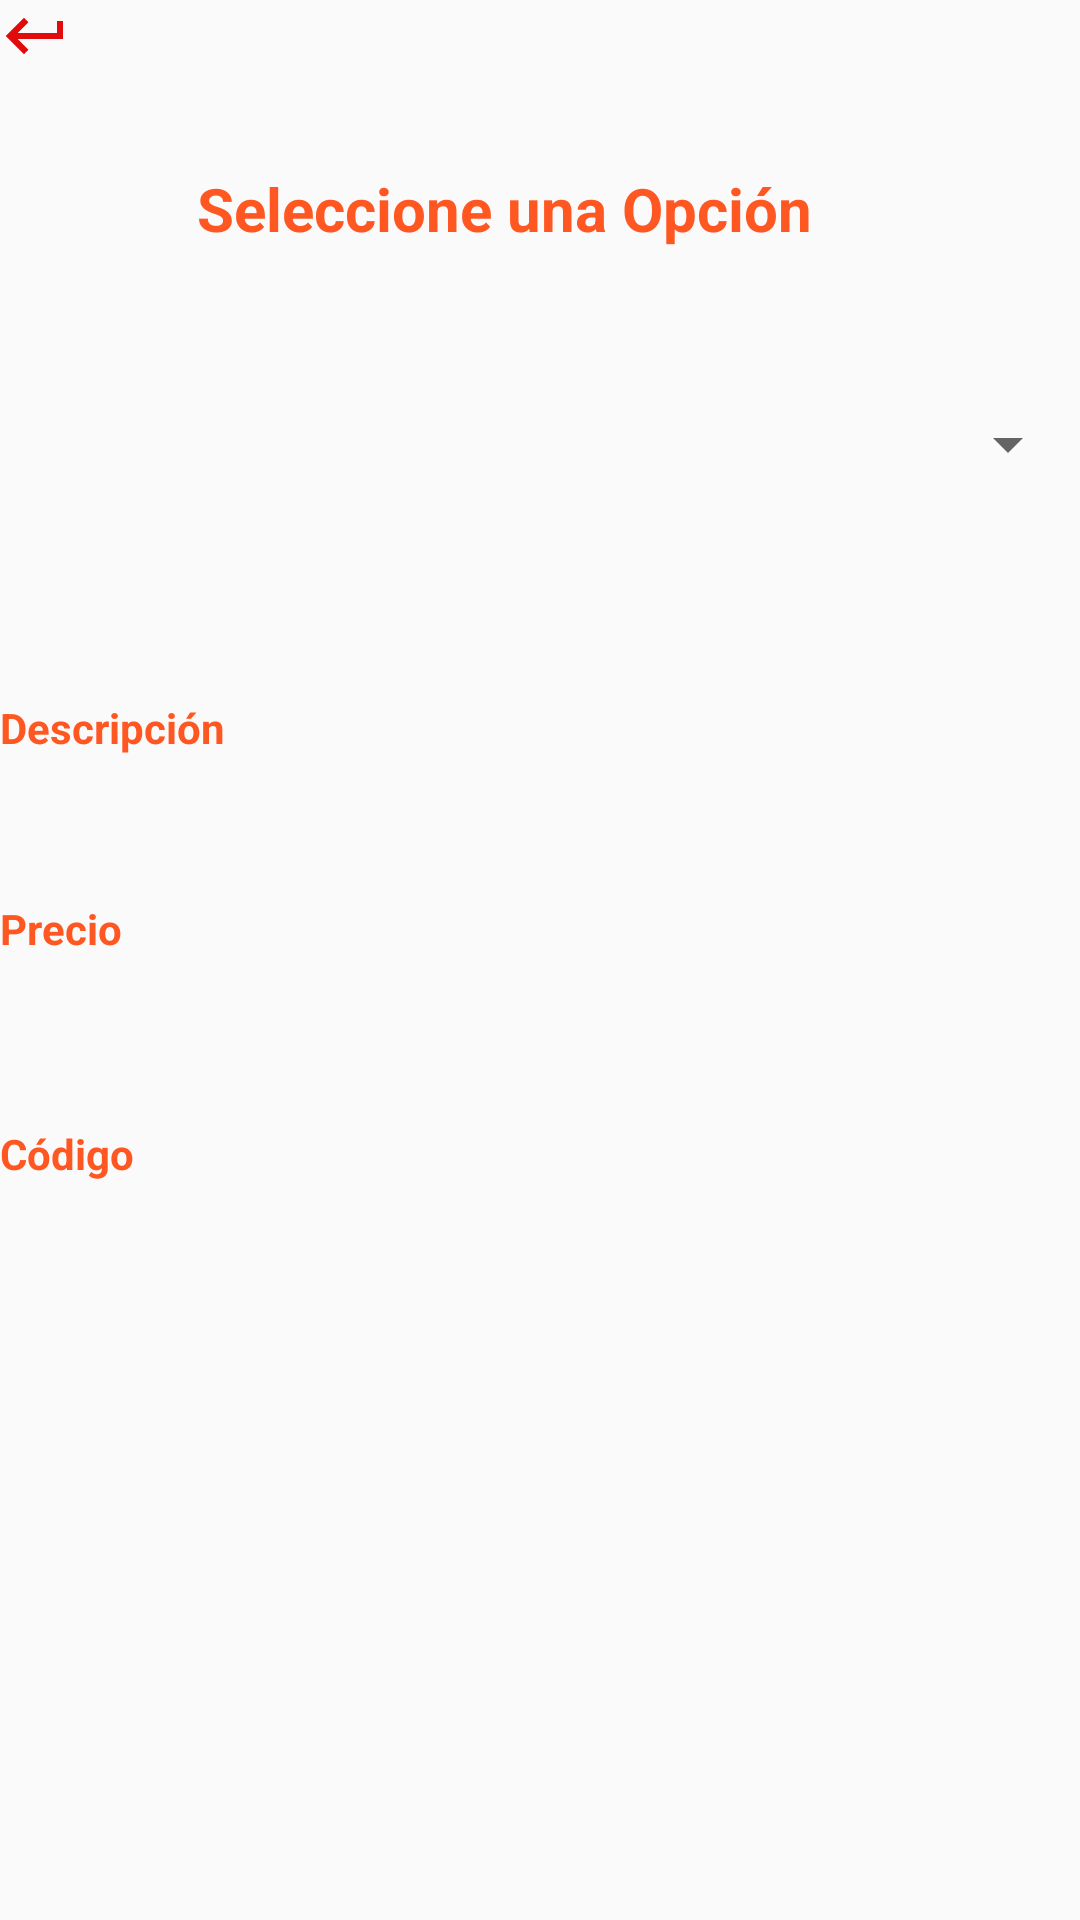

Icons on this 1080 × 1920 Android screen, each with its box as (x1, y1, x2, y2):
regresar: (6, 18, 63, 54)
